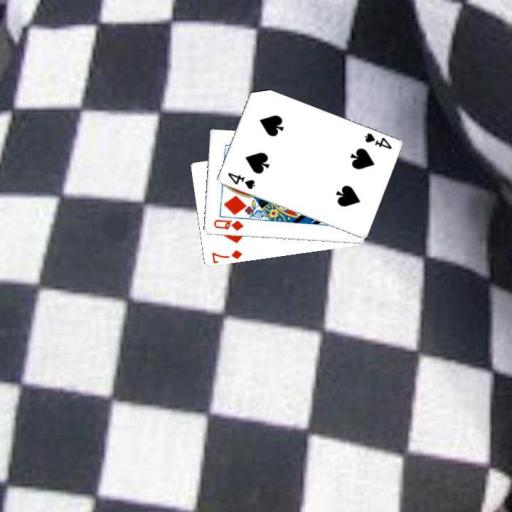4S: (224, 169, 256, 191), (361, 129, 393, 151)
7D: (209, 247, 244, 264)
QD: (211, 216, 245, 233)
